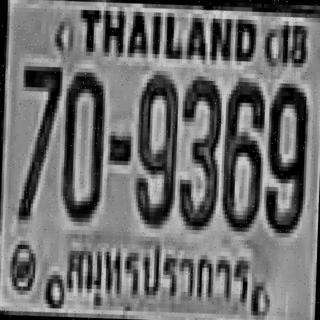N00: (60, 67, 104, 218)
N03: (176, 75, 220, 226)
N06: (220, 77, 264, 228)
N07: (16, 62, 61, 217)
N09: (263, 78, 307, 234), (133, 70, 177, 225)
P57: (61, 236, 255, 314)
